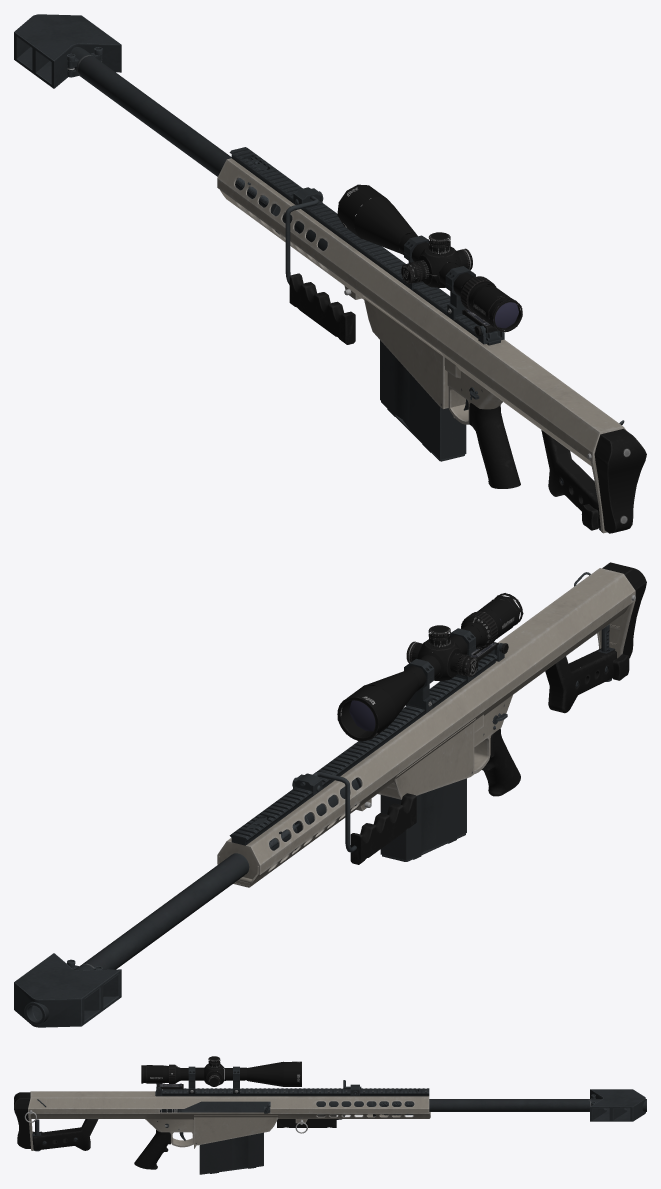
Rendered from barrett.glb.
The picture shows the model from 3 angles, top to bottom: view 1: azimuth 30°, elevation 25°; view 2: azimuth 150°, elevation 25°; view 3: azimuth 270°, elevation 25°; orthographic projection. The views are drawn at different scales.
Visible parts, largest first — view 1: Barrett M82_Barrett M82 Main Body_0, Barrett M82_Barrett M82 Rail, Grip, Stock and others_0, Barrett M82_Barrett M82 Bolt Carrier_0, Barrett M82 Scope_Barrett M82 Scope_0, M82 Magazine.003_Barrett M82 Magazine and Bullet_0, Scope Holder_Barrett M82 Scope_0; view 2: Barrett M82_Barrett M82 Main Body_0, Barrett M82_Barrett M82 Rail, Grip, Stock and others_0, Barrett M82_Barrett M82 Bolt Carrier_0, Barrett M82 Scope_Barrett M82 Scope_0, M82 Magazine.003_Barrett M82 Magazine and Bullet_0, Scope Holder_Barrett M82 Scope_0; view 3: Barrett M82_Barrett M82 Main Body_0, Barrett M82_Barrett M82 Rail, Grip, Stock and others_0, Barrett M82_Barrett M82 Bolt Carrier_0, Barrett M82 Scope_Barrett M82 Scope_0, M82 Magazine.003_Barrett M82 Magazine and Bullet_0, Scope Holder_Barrett M82 Scope_0.
Part boxes in pixels (<box>): Barrett M82_Barrett M82 Main Body_0: <box>217,158,626,533</box>; Barrett M82_Barrett M82 Rail, Grip, Stock and others_0: <box>229,147,646,533</box>; Barrett M82_Barrett M82 Bolt Carrier_0: <box>14,14,408,263</box>; Barrett M82 Scope_Barrett M82 Scope_0: <box>337,184,522,332</box>; M82 Magazine.003_Barrett M82 Magazine and Bullet_0: <box>380,340,466,461</box>; Scope Holder_Barrett M82 Scope_0: <box>404,235,475,319</box>; Barrett M82_Barrett M82 Main Body_0: <box>217,568,635,887</box>; Barrett M82_Barrett M82 Rail, Grip, Stock and others_0: <box>229,562,646,864</box>; Barrett M82_Barrett M82 Bolt Carrier_0: <box>14,777,361,1027</box>; Barrett M82 Scope_Barrett M82 Scope_0: <box>337,593,523,741</box>; M82 Magazine.003_Barrett M82 Magazine and Bullet_0: <box>380,778,466,861</box>; Scope Holder_Barrett M82 Scope_0: <box>404,628,475,712</box>; Barrett M82_Barrett M82 Main Body_0: <box>28,1091,430,1150</box>; Barrett M82_Barrett M82 Rail, Grip, Stock and others_0: <box>14,1080,429,1169</box>; Barrett M82_Barrett M82 Bolt Carrier_0: <box>160,1089,646,1121</box>; Barrett M82 Scope_Barrett M82 Scope_0: <box>141,1056,301,1086</box>; M82 Magazine.003_Barrett M82 Magazine and Bullet_0: <box>199,1132,263,1174</box>; Scope Holder_Barrett M82 Scope_0: <box>188,1066,239,1094</box>.
Size of the model in its own units: 0.0981 by 0.2864 by 1.45.
Materials: 5 (5 with a texture image).
